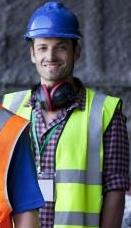hard-hat: (0, 0, 34, 56)
vest: (0, 90, 66, 228)
